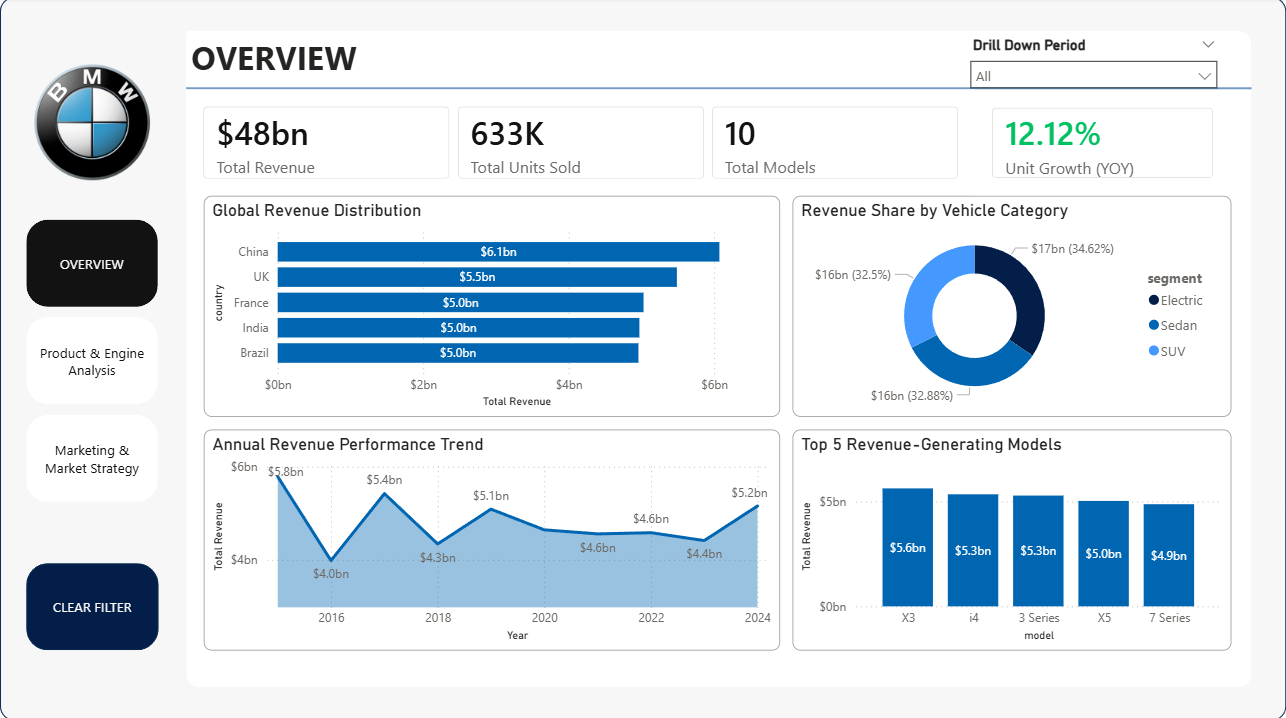

The dashboard page shown, as its layout file describes it:
{"tool":"powerbi","page":{"name":"OVERVIEW","canvas":[1280,720],"ordinal":0},"visuals":[{"type":"shape","box":[0,0,1280,720],"z":0},{"type":"shape","box":[0,0,1280,720.3],"z":1000},{"type":"shape","box":[185,33.3,1060,653.3],"z":2000},{"type":"image","box":[26.7,66.7,131.7,115],"z":3000},{"type":"textbox","box":[185,33.3,378.3,60],"z":4000},{"type":"shape","box":[185,0,1060,181.7],"z":5000},{"type":"cardVisual","fields":{"Data":["bmw_global_sales_dataset.Total Revenue","bmw_global_sales_dataset.Total Units","bmw_global_sales_dataset.Total Models"]},"box":[185,91.7,785,106.7],"z":6000},{"type":"barChart","title":"Global Revenue Distribution","fields":{"Category":["bmw_global_sales_dataset.country"],"Y":["bmw_global_sales_dataset.Total Revenue"]},"box":[203.3,198.3,573.3,220],"z":7000},{"type":"areaChart","title":"Annual Revenue Performance Trend","fields":{"Category":["bmw_global_sales_dataset.Date.Variation.Date Hierarchy.Year","bmw_global_sales_dataset.Date.Variation.Date Hierarchy.Quarter","bmw_global_sales_dataset.Date.Variation.Date Hierarchy.Month","bmw_global_sales_dataset.Date.Variation.Date Hierarchy.Day"],"Y":["bmw_global_sales_dataset.Total Revenue"]},"box":[203.3,430,573.3,220],"z":8000},{"type":"donutChart","title":"Revenue Share by Vehicle Category","fields":{"Category":["bmw_global_sales_dataset.segment"],"Y":["bmw_global_sales_dataset.Total Revenue"]},"box":[788.3,198.3,436.7,220],"z":9000},{"type":"clusteredColumnChart","title":"Top 5 Revenue-Generating Models","fields":{"Category":["bmw_global_sales_dataset.model"],"Y":["bmw_global_sales_dataset.Total Revenue"]},"box":[788.3,430,436.7,220],"z":10000},{"type":"cardVisual","fields":{"Data":["bmw_global_sales_dataset.Unit Growth (YOY)"]},"box":[970,92.9,254.3,104.3],"z":11000},{"type":"pageNavigator","box":[26.7,221.7,131.7,283.3],"z":12000},{"type":"shape","box":[26.7,563.3,131.7,86.7],"z":13000},{"type":"slicer","fields":{"Values":["bmw_global_sales_dataset.Date.Variation.Date Hierarchy.Year","bmw_global_sales_dataset.Date.Variation.Date Hierarchy.Quarter","bmw_global_sales_dataset.Date.Variation.Date Hierarchy.Month"]},"box":[955.4,34.8,266.2,57.2],"z":13001}]}

Visuals, with their boxes in screenshot pixels (x1, y1, x2, y2), scaled from the page's 1280x720 canvas onto the 1286x718 screenshot:
shape: bbox(0, 0, 1285, 717)
shape: bbox(0, 0, 1285, 717)
shape: bbox(186, 33, 1251, 685)
image: bbox(27, 67, 159, 181)
textbox: bbox(186, 33, 566, 93)
shape: bbox(186, 0, 1251, 181)
cardVisual - bmw_global_sales_dataset.Total Revenue x bmw_global_sales_dataset.Total Units: bbox(186, 91, 975, 198)
"Global Revenue Distribution" barChart: bbox(204, 198, 780, 417)
"Annual Revenue Performance Trend" areaChart: bbox(204, 429, 780, 648)
"Revenue Share by Vehicle Category" donutChart: bbox(792, 198, 1231, 417)
"Top 5 Revenue-Generating Models" clusteredColumnChart: bbox(792, 429, 1231, 648)
cardVisual - bmw_global_sales_dataset.Unit Growth (YOY): bbox(975, 93, 1230, 197)
pageNavigator: bbox(27, 221, 159, 504)
shape: bbox(27, 562, 159, 648)
slicer - bmw_global_sales_dataset.Date.Variation.Date Hierarchy.Year x bmw_global_sales_dataset.Date.Variation.Date Hierarchy.Quarter: bbox(960, 35, 1227, 92)
